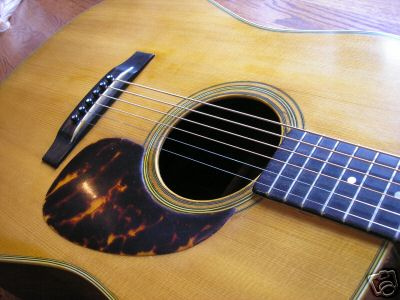guitar: (1, 1, 400, 300)
